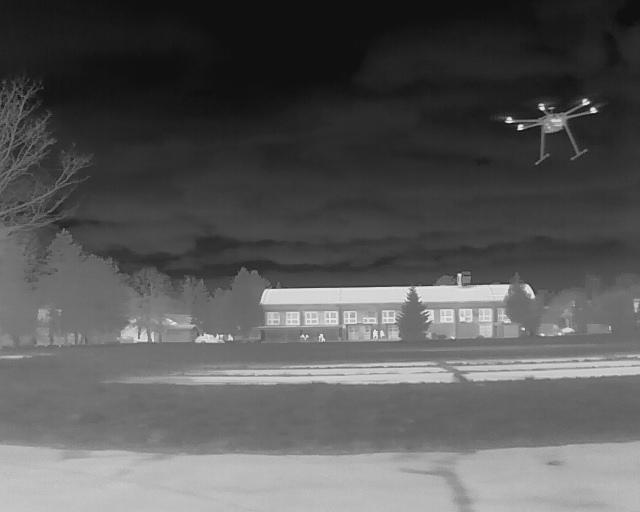drone: (489, 93, 609, 173)
